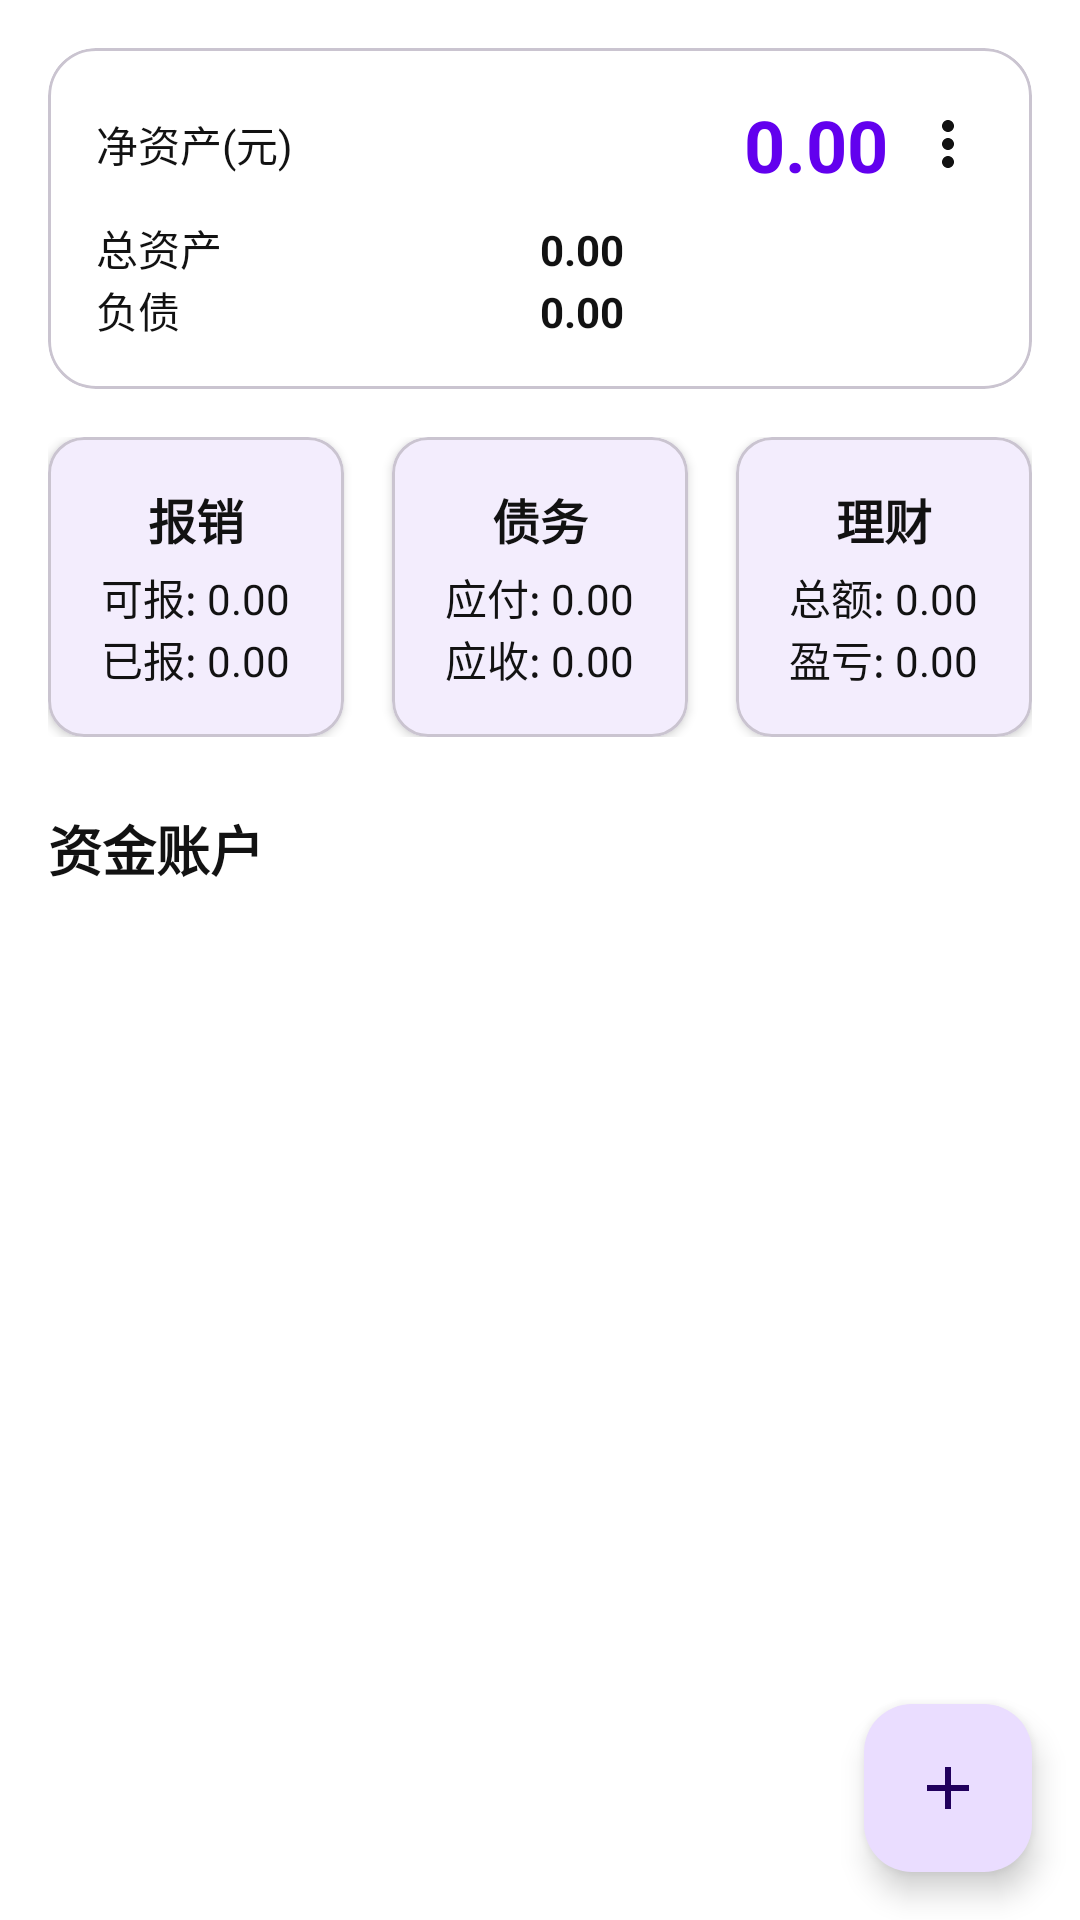

Screen size 1080*1920. Icon name, then its box in pixels as rect(x1, y1, x2, y2):
add: rect(864, 1704, 1032, 1872)
more vert: rect(942, 120, 954, 168)
